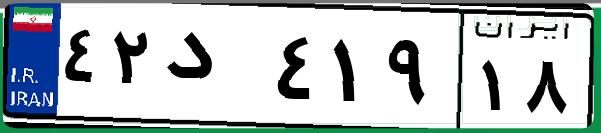1: (330, 28, 385, 110), (475, 38, 525, 113)
2: (110, 28, 158, 98)
4: (270, 28, 330, 110), (57, 26, 110, 100)
8: (525, 38, 570, 115)
9: (385, 28, 445, 110)
د: (158, 20, 270, 120)
